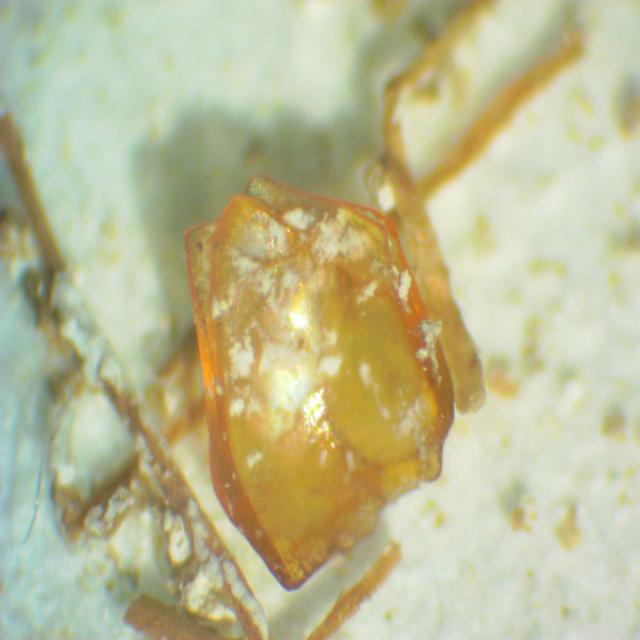microplastic: (184, 169, 458, 588)
